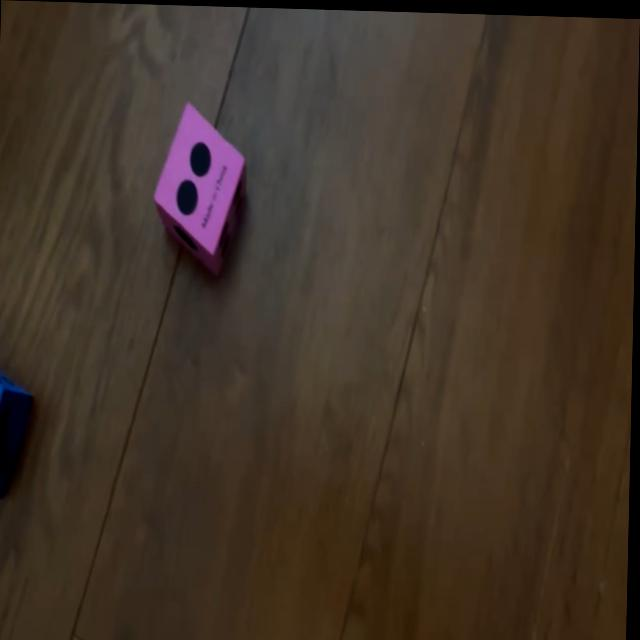blue_block: (0, 362, 34, 503)
